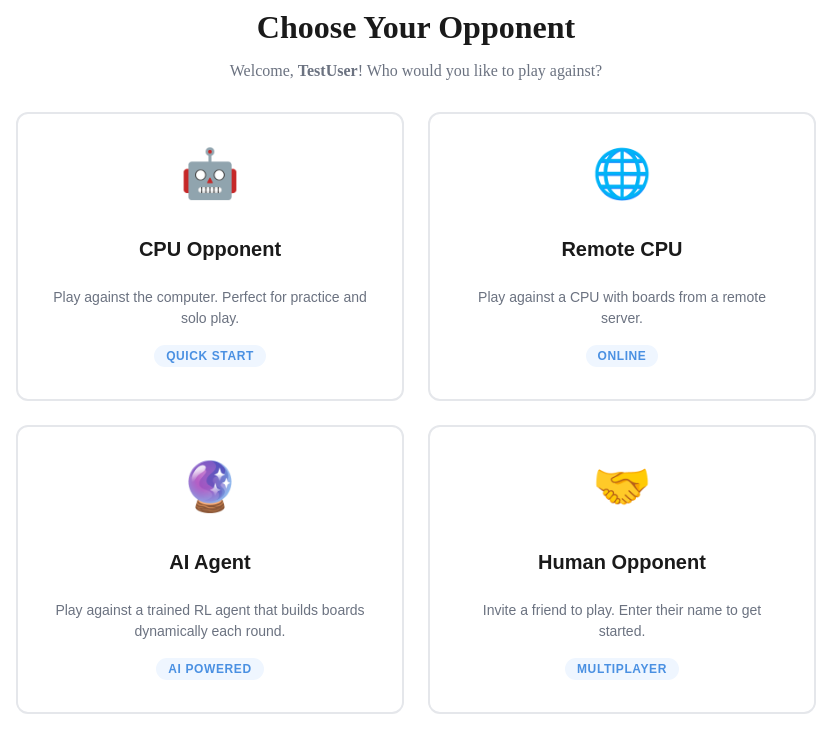
it: OpponentManager › Back button functionality › should retain opponent name when going back and forward
Click the button with aria-label "Play against human opponent" at (622, 569), box [428,424,816,714]
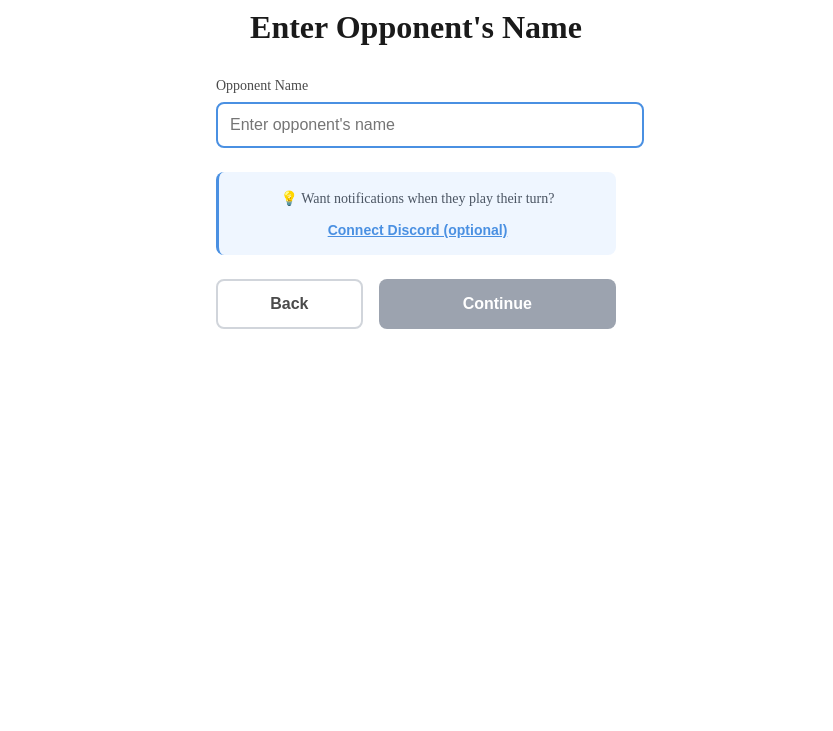
Type "Test" into the field labelled "Opponent Name" at (430, 124), box [216,102,644,148]
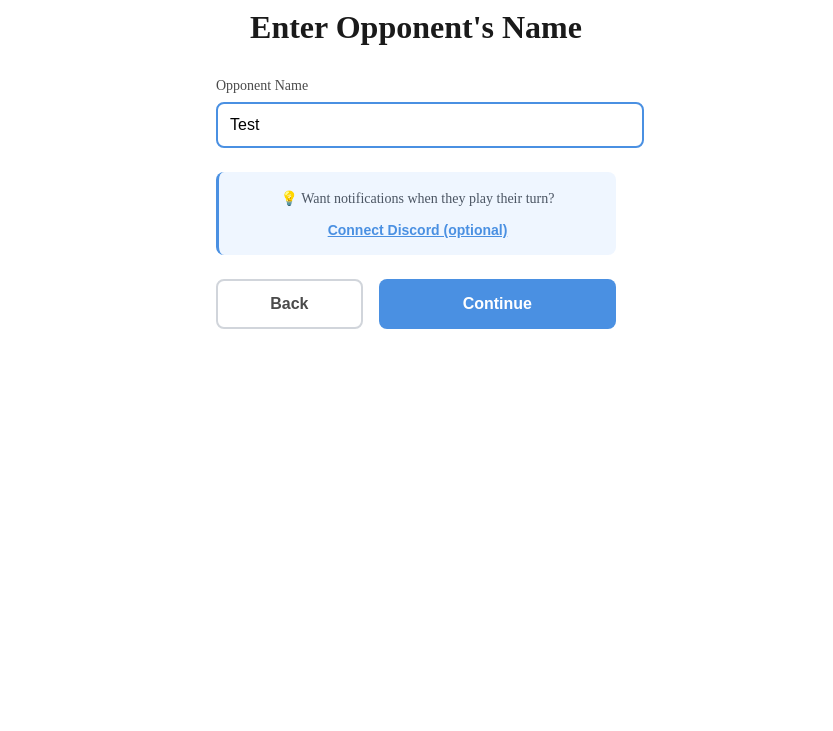
Click the button "Back" at (289, 304), box [216,278,363,328]
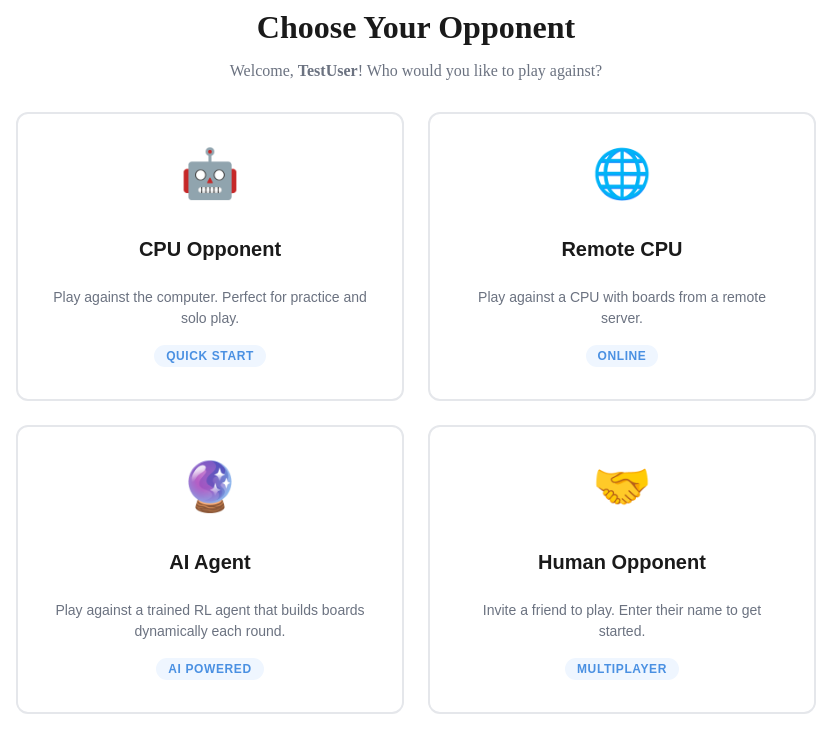
# Go back to human opponent screen
Click the button with aria-label "Play against human opponent" at (622, 569), box [428,424,816,714]
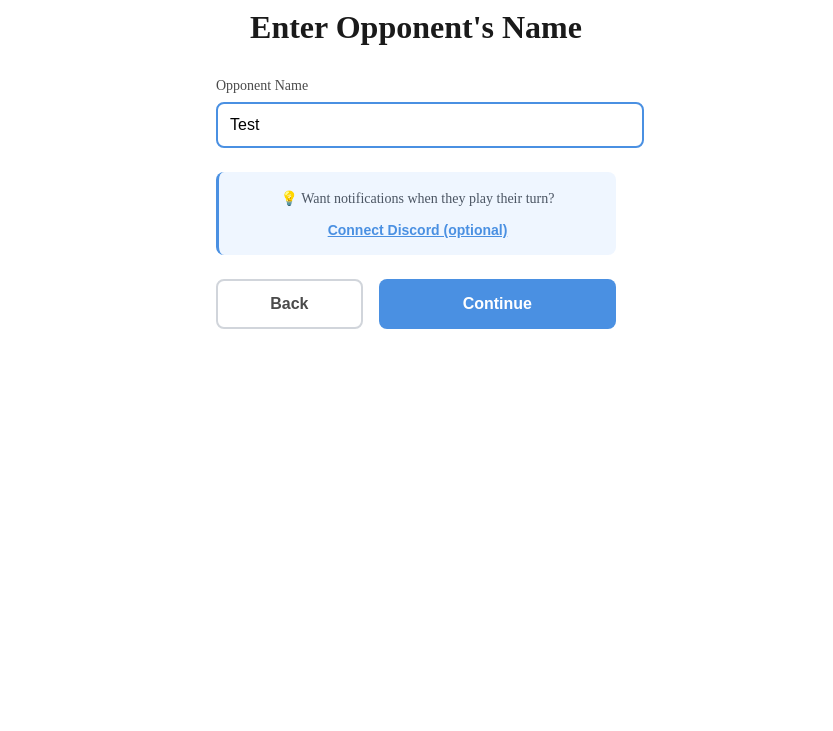
expect the field labelled "Opponent Name" holds "Test": met, box [216,102,644,148]
